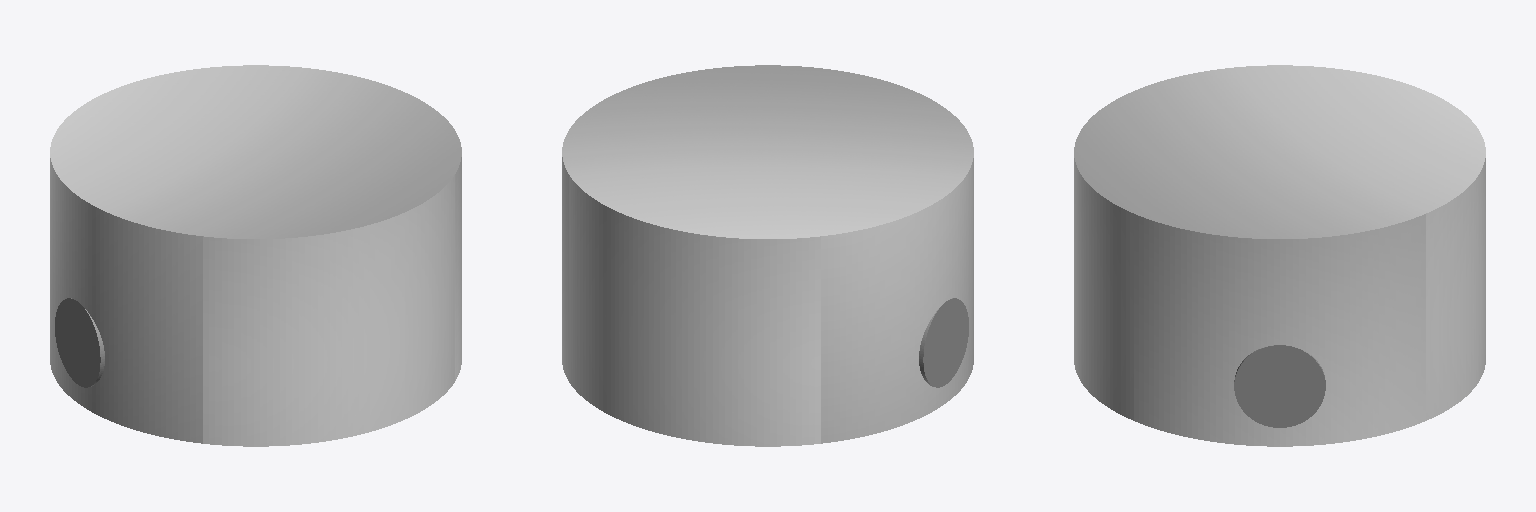
3 renders of one model, left to right at view 1: azimuth 30°, elevation 25°; view 2: azimuth 150°, elevation 25°; view 3: azimuth 270°, elevation 25°, orthographic.
Parts seen in each view (by area): view 1: Cylinder; view 2: Cylinder; view 3: Cylinder.
Part boxes in pixels (x1,y1,x2,y2): Cylinder: (50,65,461,446); Cylinder: (562,65,973,446); Cylinder: (1074,65,1485,446).
Bounding box in the file's own units: 1.8 × 1 × 1.8.
Materials: 2 (1 with a texture image).